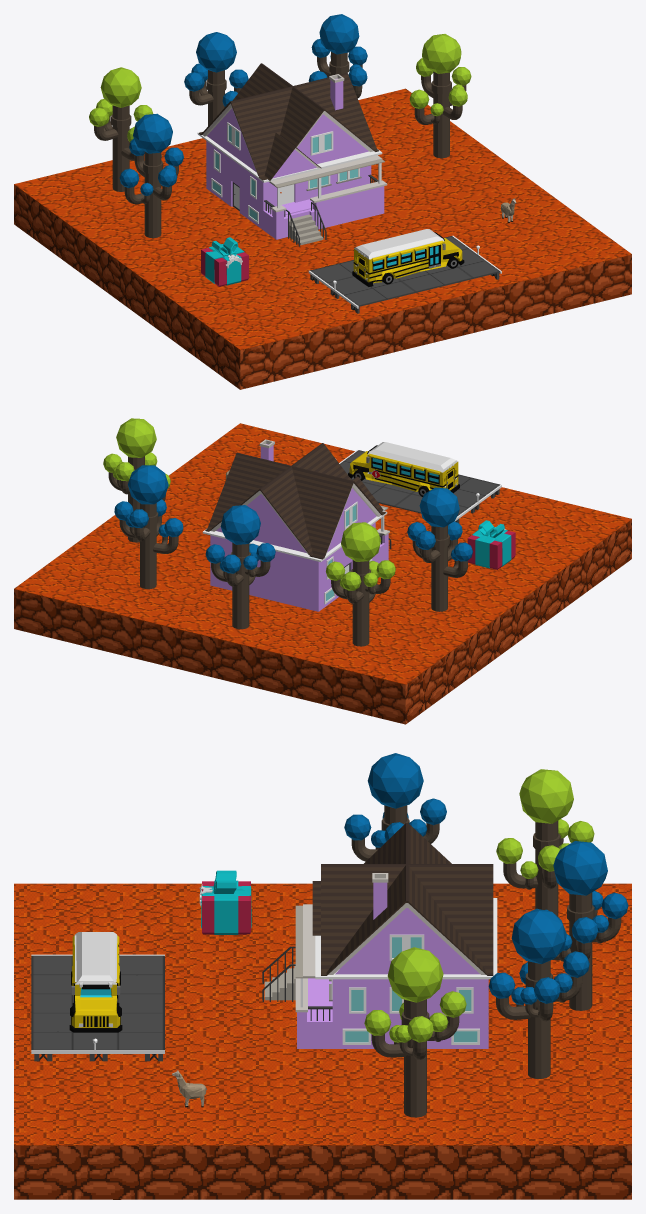
3 renders of one model, top to bottom at view 1: azimuth 30°, elevation 25°; view 2: azimuth 150°, elevation 25°; view 3: azimuth 270°, elevation 25°, orthographic. The views are drawn at different scales.
Parts seen in each view (by area): view 1: Cube.001, Cube.391, VEHICLES_SCHOOL_BUS, OBJRANDOM_GIANT_PRESENT; view 2: Cube.001, Cube.391, VEHICLES_SCHOOL_BUS, OBJRANDOM_GIANT_PRESENT; view 3: Cube.001, Cube.391, VEHICLES_SCHOOL_BUS, OBJRANDOM_GIANT_PRESENT.
Part boxes in pixels (x1,y1,x2,y2): Cube.001: (14, 14, 631, 389); Cube.391: (197, 63, 387, 246); VEHICLES_SCHOOL_BUS: (352, 229, 464, 286); OBJRANDOM_GIANT_PRESENT: (201, 237, 248, 286); Cube.001: (14, 418, 631, 724); Cube.391: (202, 439, 391, 611); VEHICLES_SCHOOL_BUS: (348, 442, 459, 496); OBJRANDOM_GIANT_PRESENT: (467, 520, 515, 569); Cube.001: (14, 753, 631, 1199); Cube.391: (262, 823, 497, 1048); VEHICLES_SCHOOL_BUS: (69, 932, 122, 1032); OBJRANDOM_GIANT_PRESENT: (199, 870, 251, 934).
Size of the model in its own units: 4000 by 1637 by 4000.
36 materials, 4 textured.
